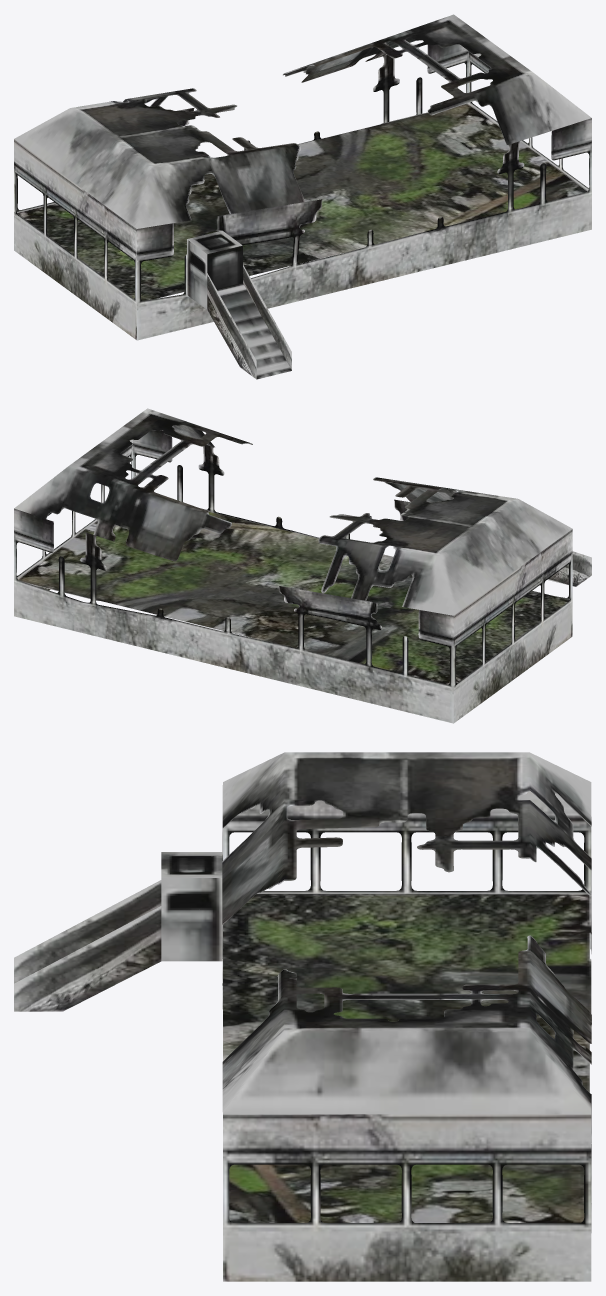
Rendered from terminal1_dam_hdtex.glb.
3 views of the same model, one above another, from view 1: azimuth 30°, elevation 25°; view 2: azimuth 150°, elevation 25°; view 3: azimuth 270°, elevation 25° (orthographic). The views are drawn at different scales.
Parts seen in each view (by area): view 1: outside, Stairs; view 2: outside, Stairs; view 3: outside, Stairs.
Boxes of the visible parts, bbox=[...] form: outside: bbox=[14, 14, 591, 340]; Stairs: bbox=[187, 230, 291, 379]; outside: bbox=[14, 408, 572, 723]; Stairs: bbox=[547, 551, 591, 586]; outside: bbox=[222, 752, 591, 1281]; Stairs: bbox=[14, 852, 222, 1011].
Bounding box in the file's own units: 25.6 × 8 × 18.82.
Materials: 1 (1 with a texture image).
